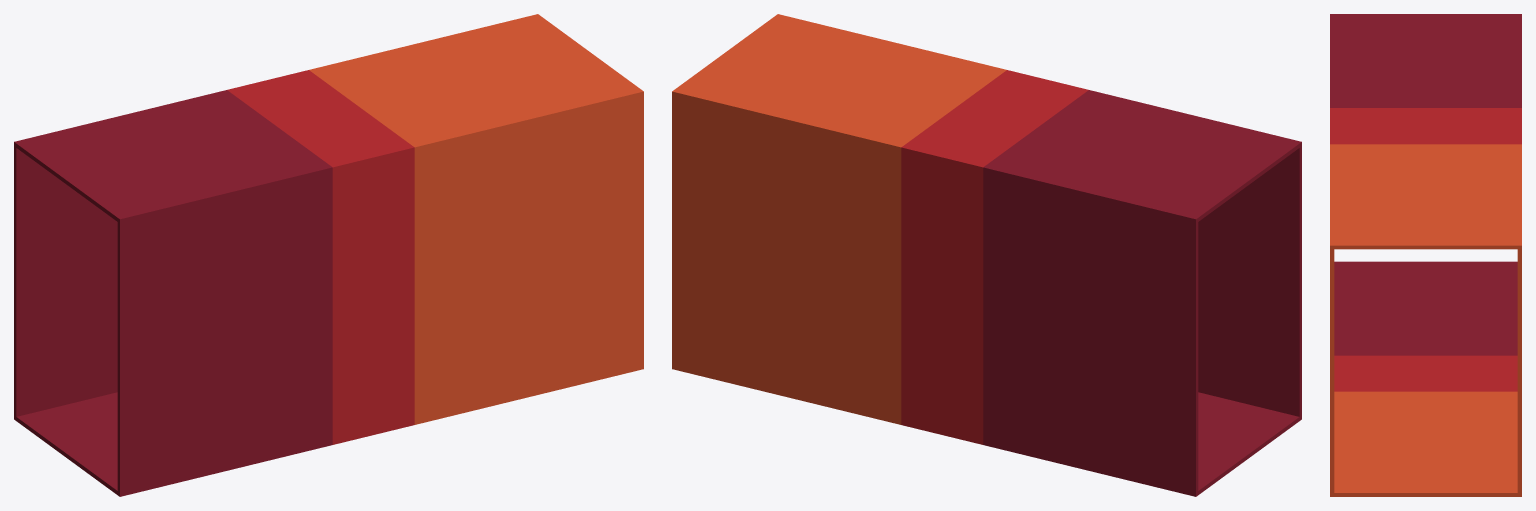
The model's file is superheater_temperature.glb.
3 views of the same model, side by side, from view 1: azimuth 30°, elevation 25°; view 2: azimuth 150°, elevation 25°; view 3: azimuth 270°, elevation 25° (orthographic). The views are drawn at different scales.
Parts seen in each view (by area): view 1: temperature__front, temperature__back; view 2: temperature__back, temperature__front; view 3: temperature__back, temperature__front.
Boxes of the visible parts, x1,y1,x2,y2 form: temperature__front: (67,53,643,496); temperature__back: (14,14,590,457); temperature__back: (672,53,1248,496); temperature__front: (725,14,1301,457); temperature__back: (1426,14,1521,496); temperature__front: (1330,14,1425,496).
Size of the model in its own units: 3.2 by 1.62 by 1.12.
